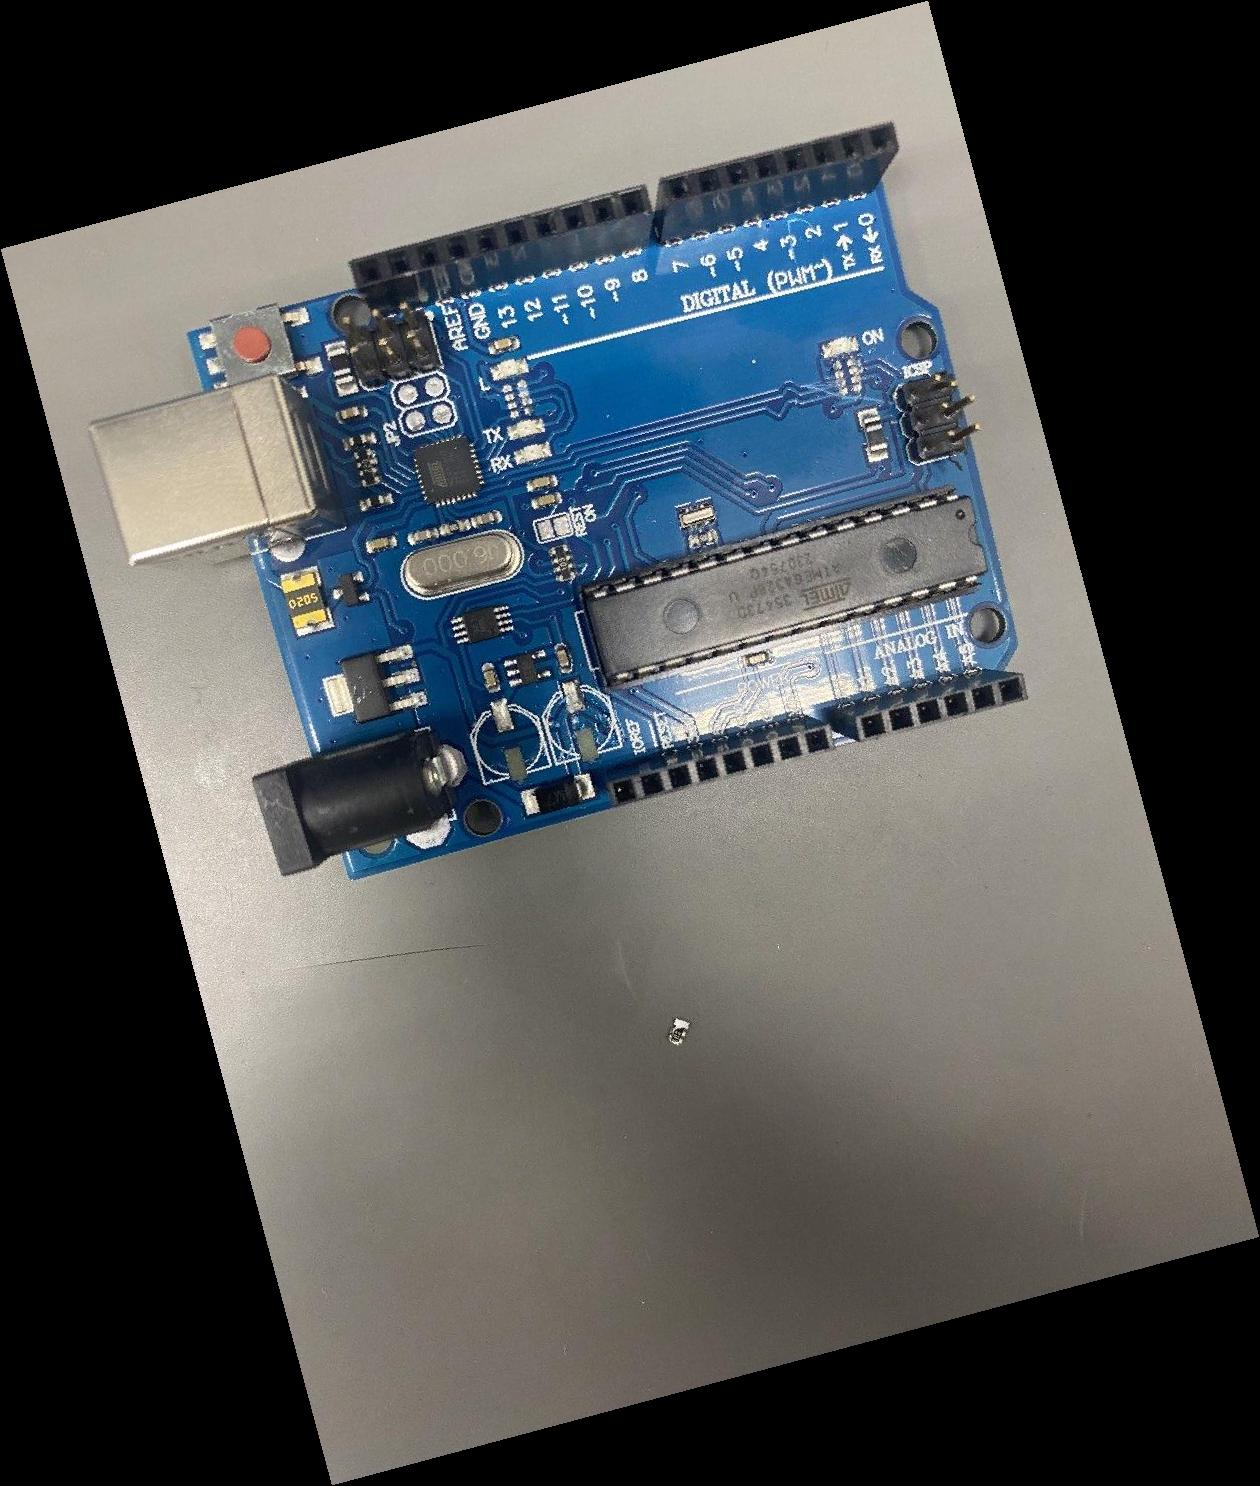ATmega328 chip: (580, 486, 989, 693)
Arduino board: (89, 122, 1028, 883)
USB: (87, 372, 347, 575)
pins: (348, 182, 655, 317), (654, 120, 901, 243), (609, 717, 835, 807), (827, 666, 1029, 741)
resistor: (549, 424, 579, 702), (354, 327, 383, 608)
